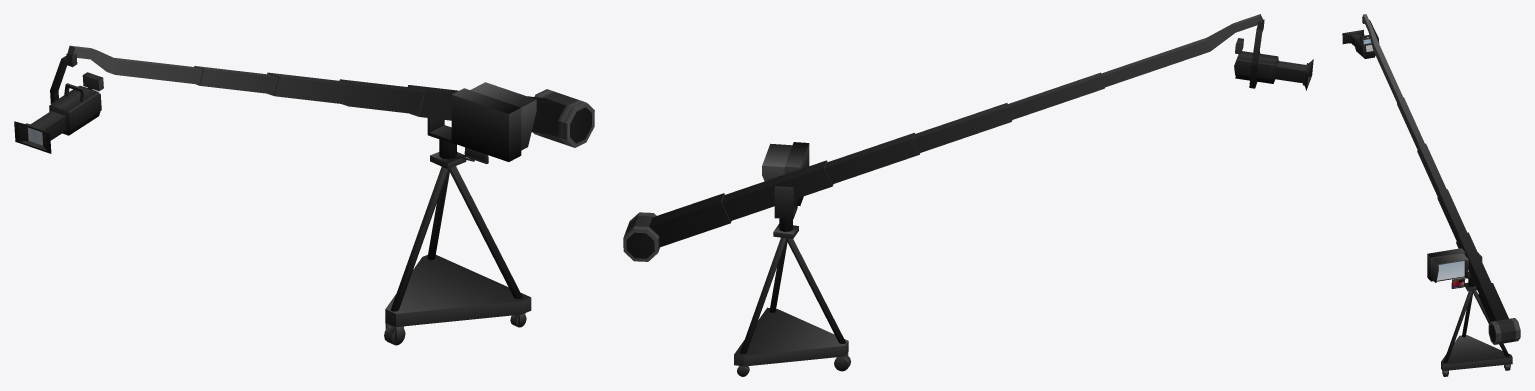
Rendered from camera_gib.glb.
3 views of the same model, side by side, from view 1: azimuth 30°, elevation 25°; view 2: azimuth 150°, elevation 25°; view 3: azimuth 270°, elevation 25° (orthographic). The views are drawn at different scales.
Visible parts, largest first — view 1: camera_jimmyjib_rail, camera_jimmyjib, camera_jimmyjib_roller, camera_main_body, camera_jimmyjib_holder; view 2: camera_jimmyjib_rail, camera_jimmyjib, camera_jimmyjib_roller, camera_main_body; view 3: camera_jimmyjib_rail, camera_jimmyjib, camera_jimmyjib_roller, camera_main_body.
Part boxes in pixels (x1,y1,x2,y2): camera_jimmyjib_rail: (67, 45, 594, 147); camera_jimmyjib: (385, 152, 531, 326); camera_jimmyjib_roller: (427, 82, 536, 163); camera_main_body: (14, 72, 103, 153); camera_jimmyjib_holder: (50, 53, 77, 103); camera_jimmyjib_rail: (623, 14, 1262, 261); camera_jimmyjib: (734, 224, 848, 366); camera_jimmyjib_roller: (762, 142, 809, 231); camera_main_body: (1234, 38, 1313, 90); camera_jimmyjib_rail: (1362, 14, 1520, 344); camera_jimmyjib: (1441, 282, 1512, 371); camera_jimmyjib_roller: (1427, 248, 1482, 288); camera_main_body: (1342, 29, 1375, 58).
Size of the model in its own units: 4.96 by 3.14 by 2.15.
1 material, 1 textured.
